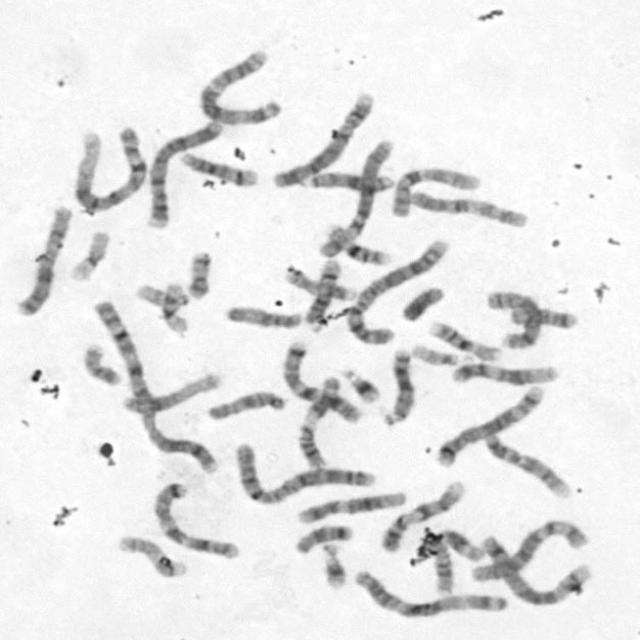A1: (85, 296, 222, 472), (67, 129, 152, 215)
A2: (334, 239, 447, 351), (231, 446, 369, 505)
A3: (348, 566, 508, 620), (192, 45, 285, 126)
B4: (268, 96, 369, 190), (142, 116, 224, 231)
B5: (432, 382, 546, 467), (480, 533, 597, 607)
C10: (404, 187, 530, 230), (386, 163, 482, 219)
C11: (294, 372, 342, 470), (432, 528, 486, 598)
C12: (292, 487, 408, 525), (447, 359, 561, 386)
C6: (314, 135, 397, 260), (467, 515, 592, 583)
C7: (148, 478, 242, 560), (278, 337, 363, 425)
C8: (116, 368, 223, 416), (483, 287, 544, 348)
C9: (376, 476, 467, 554), (482, 431, 574, 501)
D13: (379, 344, 416, 426), (294, 170, 396, 193)
D14: (176, 149, 259, 187), (302, 256, 344, 330)
D15: (204, 387, 288, 423), (222, 302, 304, 331)
E16: (425, 317, 501, 364), (321, 220, 392, 268)
E17: (114, 531, 186, 579), (280, 262, 357, 302)
E18: (291, 520, 355, 556), (506, 304, 579, 330)
F19: (66, 228, 112, 284), (159, 279, 191, 335)
F20: (80, 339, 124, 387), (183, 248, 214, 300)
G21: (342, 366, 382, 405), (319, 548, 349, 592)
G22: (134, 282, 189, 308), (408, 340, 459, 368)
X: (12, 208, 74, 318)
Y: (396, 283, 446, 324)
